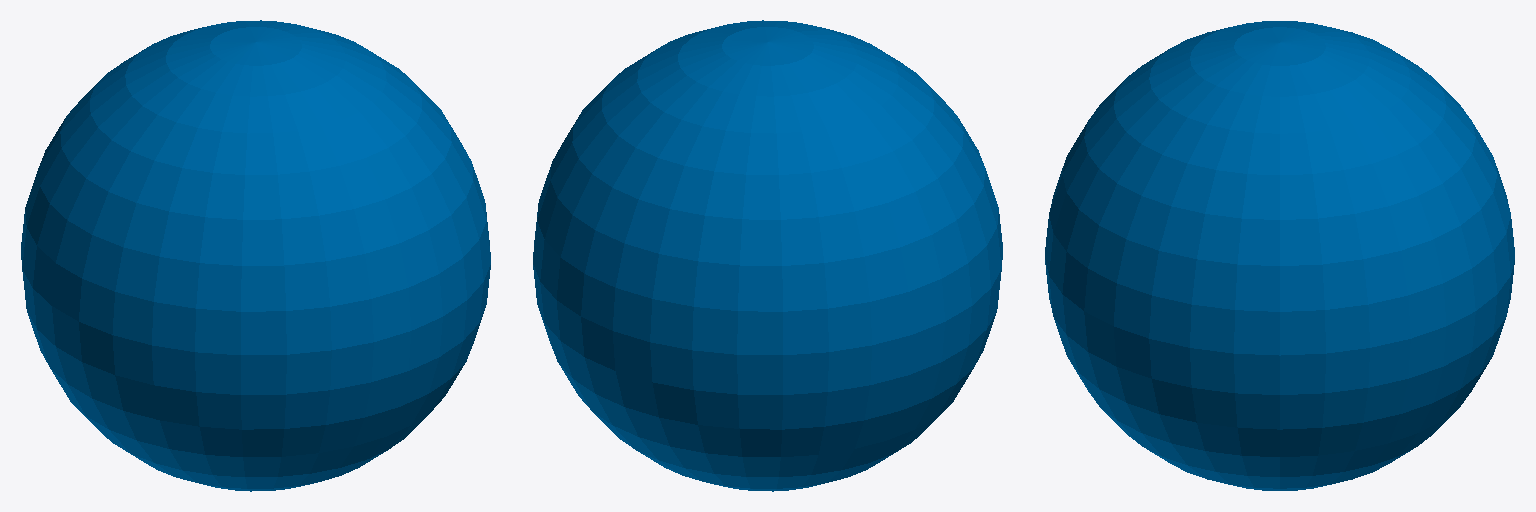
robot.urdf — panda:
<?xml version="1.0" ?>
<!-- =================================================================================== -->
<!-- |    This document was autogenerated by xacro from panda_arm_hand.urdf.xacro      | -->
<!-- |    EDITING THIS FILE BY HAND IS NOT RECOMMENDED                                 | -->
<!-- =================================================================================== -->
<robot name="panda" xmlns:xacro="http://www.ros.org/wiki/xacro">
  <link name="panda_link0">
  	<inertial>
      <origin rpy="0 0 0" xyz="0 0 0.05"/>
       <mass value="2.9"/>
       <inertia ixx="0.1" ixy="0" ixz="0" iyy="0.1" iyz="0" izz="0.1"/>
    </inertial>
    <visual>
      <geometry>
        <mesh filename="package://meshes/collision/link0.obj"/>
      </geometry>
      <material name="panda_white">
    		<color rgba="1. 1. 1. 1."/>
  		</material>
    </visual>
    <collision>
      <geometry>
        <mesh filename="package://meshes/collision/link0.obj"/>
      </geometry>
      <material name="panda_white"/>
    </collision>
  </link>
  <link name="panda_link1">
  	<inertial>
      <origin rpy="0 0 0" xyz="0 -0.04 -0.05"/>
       <mass value="2.7"/>
       <inertia ixx="0.1" ixy="0" ixz="0" iyy="0.1" iyz="0" izz="0.1"/>
    </inertial>
    <visual>
      <geometry>
        <mesh filename="package://meshes/visual/link1.obj"/>
      </geometry>
      <material name="panda_white"/>
    </visual>
    <collision>
      <geometry>
        <mesh filename="package://meshes/collision/link1.obj"/>
      </geometry>
      <material name="panda_white"/>
    </collision>
  </link>
  <joint name="panda_joint1" type="revolute">
    <safety_controller k_position="100.0" k_velocity="40.0" soft_lower_limit="-2.8973" soft_upper_limit="2.8973"/>
    <origin rpy="0 0 0" xyz="0 0 0.333"/>
    <parent link="panda_link0"/>
    <child link="panda_link1"/>
    <axis xyz="0 0 1"/>
    <limit effort="87" lower="-2.9671" upper="2.9671" velocity="2.1750"/>
  </joint>
  <link name="panda_link2">
  	<inertial>
      <origin rpy="0 0 0" xyz="0 -0.04 0.06"/>
       <mass value="2.73"/>
       <inertia ixx="0.1" ixy="0" ixz="0" iyy="0.1" iyz="0" izz="0.1"/>
    </inertial>
    <visual>
      <geometry>
        <mesh filename="package://meshes/visual/link2.obj"/>
      </geometry>
      <material name="panda_white"/>
    </visual>
    <collision>
      <geometry>
        <mesh filename="package://meshes/collision/link2.obj"/>
      </geometry>
      <material name="panda_white"/>
    </collision>
  </link>
  <joint name="panda_joint2" type="revolute">
    <safety_controller k_position="100.0" k_velocity="40.0" soft_lower_limit="-1.7628" soft_upper_limit="1.7628"/>
    <origin rpy="-1.57079632679 0 0" xyz="0 0 0"/>
    <parent link="panda_link1"/>
    <child link="panda_link2"/>
    <axis xyz="0 0 1"/>
    <limit effort="87" lower="-1.8326" upper="1.8326" velocity="2.1750"/>
  </joint>
  <link name="panda_link3">
	  <inertial>
      <origin rpy="0 0 0" xyz="0.01 0.01 -0.05"/>
       <mass value="2.04"/>
       <inertia ixx="0.1" ixy="0" ixz="0" iyy="0.1" iyz="0" izz="0.1"/>
    </inertial>
    <visual>
      <geometry>
        <mesh filename="package://meshes/visual/link3.obj"/>
      </geometry>
      <material name="panda_red">
    		<color rgba="1. 1. 1. 1."/>
  		</material>
    </visual>
    <collision>
      <geometry>
        <mesh filename="package://meshes/collision/link3.obj"/>
      </geometry>
    </collision>
  </link>
  <joint name="panda_joint3" type="revolute">
    <safety_controller k_position="100.0" k_velocity="40.0" soft_lower_limit="-2.8973" soft_upper_limit="2.8973"/>
    <origin rpy="1.57079632679 0 0" xyz="0 -0.316 0"/>
    <parent link="panda_link2"/>
    <child link="panda_link3"/>
    <axis xyz="0 0 1"/>
    <limit effort="87" lower="-2.9671" upper="2.9671" velocity="2.1750"/>
  </joint>
  <link name="panda_link4">
  	<inertial>
      <origin rpy="0 0 0" xyz="-0.03 0.03 0.02"/>
       <mass value="2.08"/>
       <inertia ixx="0.1" ixy="0" ixz="0" iyy="0.1" iyz="0" izz="0.1"/>
    </inertial>
    <visual>
      <geometry>
        <mesh filename="package://meshes/visual/link4.obj"/>
      </geometry>
      <material name="panda_white"/>
    </visual>
    <collision>
      <geometry>
        <mesh filename="package://meshes/collision/link4.obj"/>
      </geometry>
      <material name="panda_white"/>
    </collision>
  </link>
  <joint name="panda_joint4" type="revolute">
    <safety_controller k_position="100.0" k_velocity="40.0" soft_lower_limit="-3.0718" soft_upper_limit="-0.0698"/>
    <origin rpy="1.57079632679 0 0" xyz="0.0825 0 0"/>
    <parent link="panda_link3"/>
    <child link="panda_link4"/>
    <axis xyz="0 0 1"/>
    <limit effort="87" lower="-3.1416" upper="0.0" velocity="2.1750"/>
  </joint>
  <link name="panda_link5">
  	<inertial>
      <origin rpy="0 0 0" xyz="0 0.04 -0.12"/>
       <mass value="3"/>
       <inertia ixx="0.1" ixy="0" ixz="0" iyy="0.1" iyz="0" izz="0.1"/>
    </inertial>
    <visual>
      <geometry>
        <mesh filename="package://meshes/visual/link5.obj"/>
      </geometry>
      <material name="panda_white"/>
    </visual>
    <collision>
      <geometry>
        <mesh filename="package://meshes/collision/link5.obj"/>
      </geometry>
      <material name="panda_white"/>
    </collision>
  </link>
  <joint name="panda_joint5" type="revolute">
    <safety_controller k_position="100.0" k_velocity="40.0" soft_lower_limit="-2.8973" soft_upper_limit="2.8973"/>
    <origin rpy="-1.57079632679 0 0" xyz="-0.0825 0.384 0"/>
    <parent link="panda_link4"/>
    <child link="panda_link5"/>
    <axis xyz="0 0 1"/>
    <limit effort="12" lower="-2.9671" upper="2.9671" velocity="2.6100"/>
  </joint>
  <link name="panda_link6">
  	<inertial>
      <origin rpy="0 0 0" xyz="0.04 0 0"/>
       <mass value="1.3"/>
       <inertia ixx="0.1" ixy="0" ixz="0" iyy="0.1" iyz="0" izz="0.1"/>
    </inertial>
    <visual>
      <geometry>
        <mesh filename="package://meshes/visual/link6.obj"/>
      </geometry>
      <material name="panda_white"/>
    </visual>
    <collision>
      <geometry>
        <mesh filename="package://meshes/collision/link6.obj"/>
      </geometry>
      <material name="panda_white"/>
    </collision>
  </link>
  <joint name="panda_joint6" type="revolute">
    <safety_controller k_position="100.0" k_velocity="40.0" soft_lower_limit="-0.0175" soft_upper_limit="3.7525"/>
    <origin rpy="1.57079632679 0 0" xyz="0 0 0"/>
    <parent link="panda_link5"/>
    <child link="panda_link6"/>
    <axis xyz="0 0 1"/>
    <limit effort="12" lower="-0.0873" upper="3.8223" velocity="2.6100"/>
  </joint>
  <link name="panda_link7">
  	<inertial>
      <origin rpy="0 0 0" xyz="0 0 0.08"/>
       <mass value=".2"/>
       <inertia ixx="0.1" ixy="0" ixz="0" iyy="0.1" iyz="0" izz="0.1"/>
    </inertial>
    <visual>
      <geometry>
        <mesh filename="package://meshes/collision/link7.obj"/>
      </geometry>
      <material name="panda_white"/>
    </visual>
    <collision>
      <geometry>
        <mesh filename="package://meshes/collision/link7.obj"/>
      </geometry>
      <material name="panda_white"/>
    </collision>
  </link>
  <joint name="panda_joint7" type="revolute">
    <safety_controller k_position="100.0" k_velocity="40.0" soft_lower_limit="-2.8973" soft_upper_limit="2.8973"/>
    <origin rpy="1.57079632679 0 0" xyz="0.088 0.107 0"/>
    <parent link="panda_link6"/>
    <child link="panda_link7"/>
    <axis xyz="0 0 1"/>
    <limit effort="12" lower="-2.9671" upper="2.9671" velocity="2.6100"/>
  </joint>
  <link name="panda_link8">
  	 <inertial>
      <origin rpy="0 0 0" xyz="0 0 0"/>
       <mass value="0.0"/>
       <inertia ixx="0.1" ixy="0" ixz="0" iyy="0.1" iyz="0" izz="0.1"/>
    </inertial>
  </link>
  <joint name="panda_joint8" type="fixed">
    <origin rpy="0 0 0" xyz="0 0 0.107"/>
    <parent link="panda_link7"/>
    <child link="panda_link8"/>
    <axis xyz="0 0 0"/>
  </joint>
  <joint name="panda_hand_joint" type="fixed">
    <parent link="panda_link8"/>
    <child link="panda_hand"/>
    <origin rpy="0 0 -0.785398163397" xyz="0 0 0"/>
    <!-- <origin rpy="0 0 0" xyz="0 0 0"/> -->
  </joint>
  <link name="panda_hand">
  	<inertial>
      <origin rpy="0 0 0" xyz="0 0 0.04"/>
       <mass value=".81"/>
       <inertia ixx="0.1" ixy="0" ixz="0" iyy="0.1" iyz="0" izz="0.1"/>
    </inertial>
    <visual>
      <geometry>
        <mesh filename="package://meshes/visual/hand.obj"/>
      </geometry>
      <material name="panda_white"/>
    </visual>
    <collision>
      <geometry>
        <mesh filename="package://meshes/collision/hand.obj"/>
      </geometry>
      <material name="panda_white"/>
    </collision>
  </link>
  <link name="panda_leftfinger">
       <contact>
      <friction_anchor/>
      <stiffness value="30000.0"/>
      <damping value="1000.0"/>
      <spinning_friction value="0.1"/>
      <rolling_friction value="0.1"/>
      <lateral_friction value="1.0"/>
    </contact>
  	<inertial>
      <origin rpy="0 0 0" xyz="0 0.01 0.02"/>
       <mass value="0.1"/>
       <inertia ixx="0.1" ixy="0" ixz="0" iyy="0.1" iyz="0" izz="0.1"/>
    </inertial>
    <visual>
      <geometry>
        <mesh filename="package://meshes/visual/finger.obj"/>
      </geometry>
      <material name="panda_white"/>
    </visual>
    <collision>
      <geometry>
        <mesh filename="package://meshes/collision/finger.obj"/>
      </geometry>
      <material name="panda_white"/>
    </collision>
  </link>
  <link name="panda_rightfinger">
        <contact>
      <friction_anchor/>
      <stiffness value="30000.0"/>
      <damping value="1000.0"/>
      <spinning_friction value="0.1"/>
      <rolling_friction value="0.1"/>
      <lateral_friction value="1.0"/>
    </contact>
  	<inertial>
      <origin rpy="0 0 0" xyz="0 -0.01 0.02"/>
       <mass value="0.1"/>
       <inertia ixx="0.1" ixy="0" ixz="0" iyy="0.1" iyz="0" izz="0.1"/>
    </inertial>
    <visual>
      <origin rpy="0 0 3.14159265359" xyz="0 0 0"/>
      <geometry>
        <mesh filename="package://meshes/visual/finger.obj"/>
      </geometry>
      <material name="panda_white"/>
    </visual>
    <collision>
      <origin rpy="0 0 3.14159265359" xyz="0 0 0"/>
      <geometry>
        <mesh filename="package://meshes/collision/finger.obj"/>
      </geometry>
      <material name="panda_white"/>
    </collision>
  </link>
  <joint name="panda_finger_joint1" type="prismatic">
    <parent link="panda_hand"/>
    <child link="panda_leftfinger"/>
    <origin rpy="0 0 0" xyz="0 0 0.0584"/>
    <axis xyz="0 1 0"/>
    <limit effort="20" lower="0.0" upper="0.05" velocity="0.2"/>
  </joint>
  <joint name="panda_finger_joint2" type="prismatic">
    <parent link="panda_hand"/>
    <child link="panda_rightfinger"/>
    <origin rpy="0 0 0" xyz="0 0 0.0584"/>
    <axis xyz="0 -1 0"/>
    <limit effort="20" lower="0.0" upper="0.05" velocity="0.2"/>
    <mimic joint="panda_finger_joint1"/>
  </joint>
  <link name="panda_grasptarget">
     <inertial>
      <origin rpy="0 0 0" xyz="0 0 0"/>
       <mass value="0.001"/>
       <inertia ixx="0.1" ixy="0" ixz="0" iyy="0.1" iyz="0" izz="0.1"/>
    </inertial>
    <visual>
      <geometry>
        <sphere radius="0.003"/>
      </geometry>
      <color rgba="1. 0. 0. 1.0"/>
    </visual>
   </link>
  <joint name="panda_grasptarget_hand" type="fixed">
    <parent link="panda_hand"/>
    <child link="panda_grasptarget"/>
    <origin rpy="0 0 0" xyz="0 0 0.07"/>
  </joint>
</robot>

--- Facts derived from the render (not from the file) ---
3 views of the same robot in one strip: view 1: azimuth 30°, elevation 25°; view 2: azimuth 150°, elevation 25°; view 3: azimuth 270°, elevation 25° (orthographic).
Model panda with 13 links and 12 joints (7 revolute, 2 prismatic, 3 fixed), rooted at panda_link0, posed all joints at 0.
Links seen in each view (by area): view 1: panda_grasptarget; view 2: panda_grasptarget; view 3: panda_grasptarget.
Link boxes in pixels (box(x1,y1,x2,y2)): panda_grasptarget: box(21, 20, 490, 491); panda_grasptarget: box(533, 20, 1002, 491); panda_grasptarget: box(1045, 21, 1514, 490).
Size in the robot's own frame: 0.006 by 0.006 by 0.006 metres.
0 mesh visuals loaded from 10 distinct referenced files (none loaded); not drawn: 11 (reference not matched to a file when rendering).